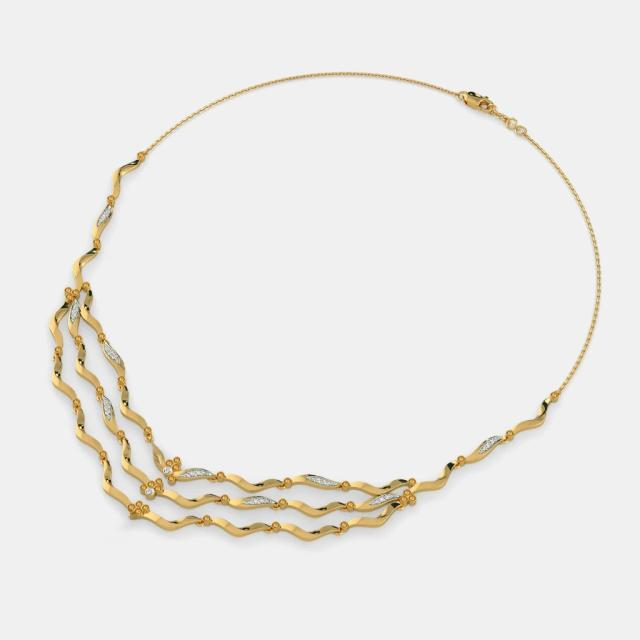missing gem: (154, 454, 162, 464)
